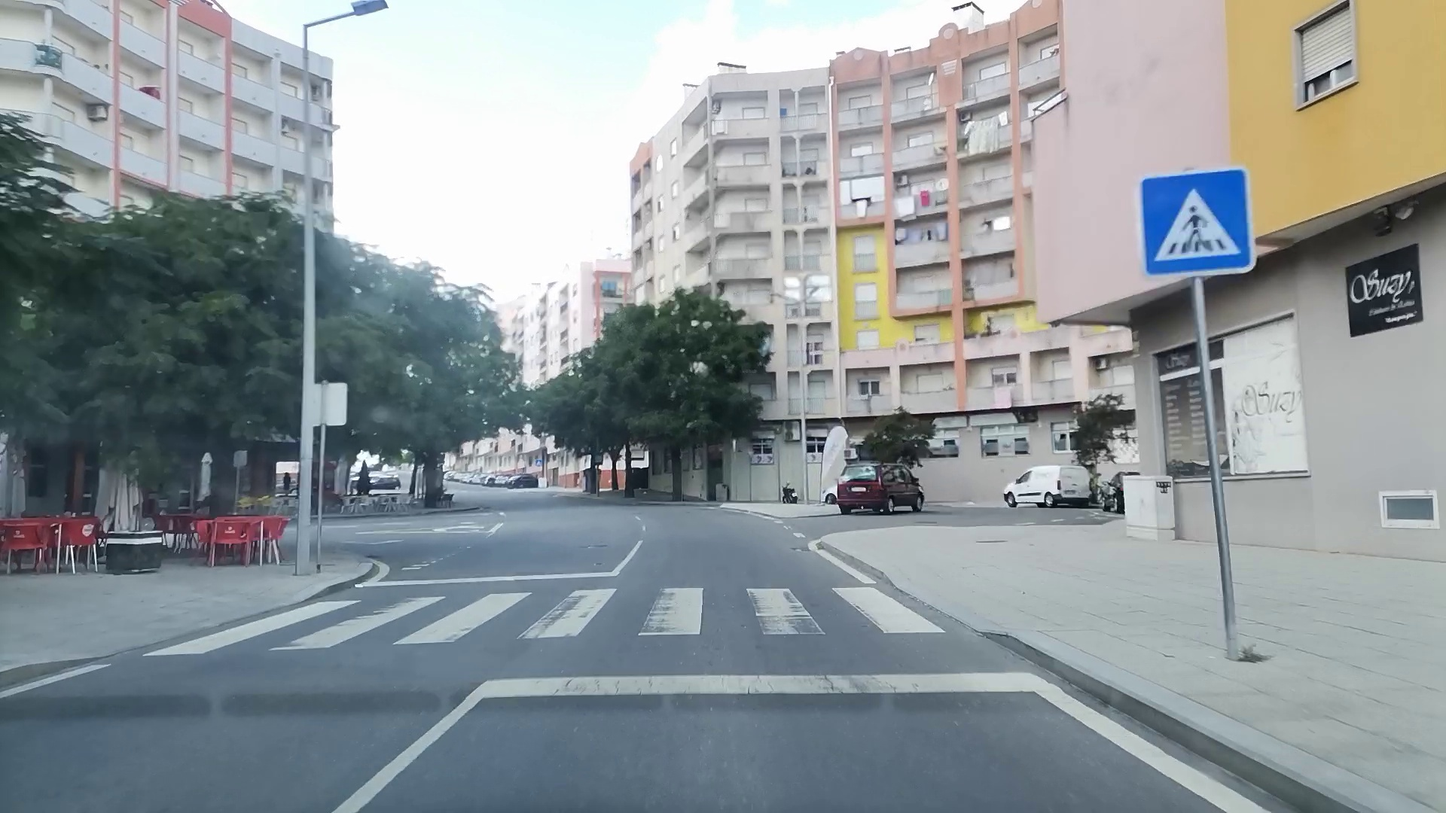Stairs: (143, 585, 948, 654)
